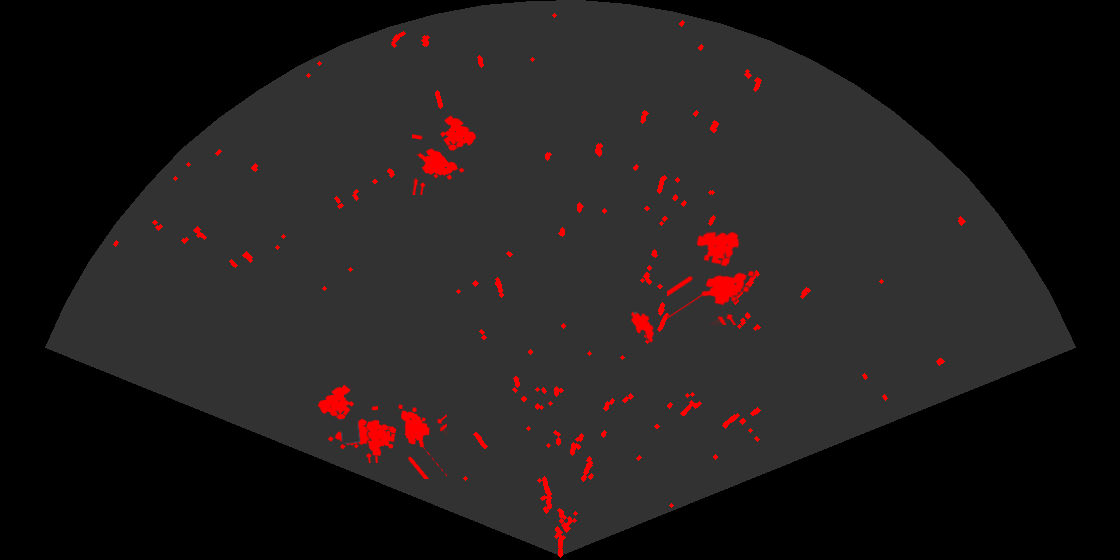AUV: (629, 310, 656, 344)
cage: (667, 230, 756, 325), (365, 403, 447, 479), (412, 114, 478, 195), (316, 383, 378, 463)
